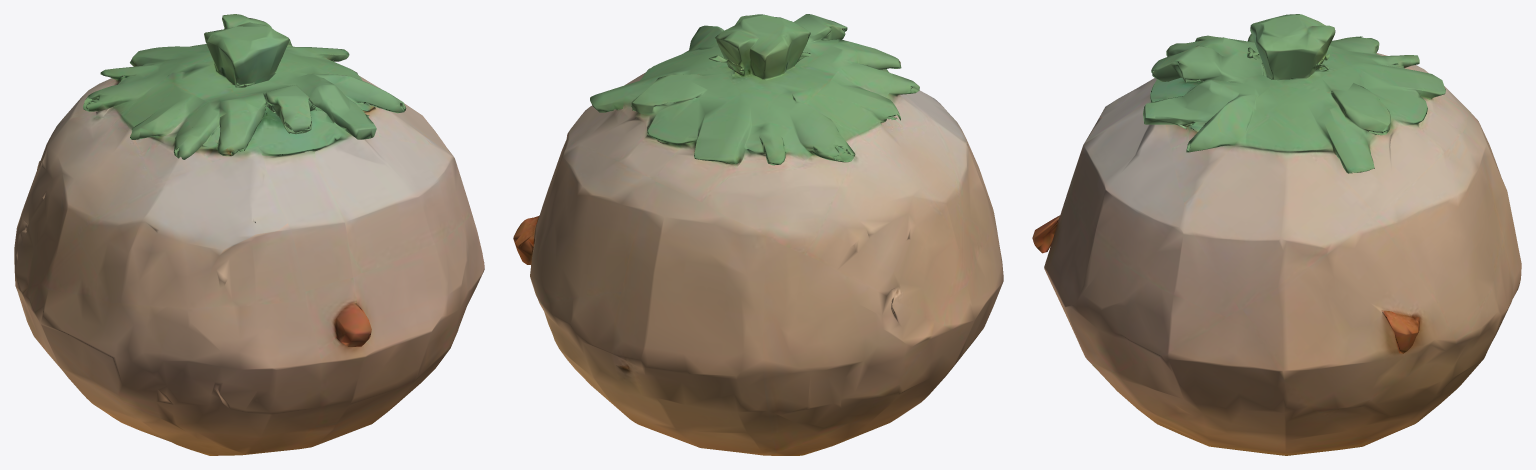
The model's file is haystack.glb.
3 renders of one model, left to right at view 1: azimuth 30°, elevation 25°; view 2: azimuth 150°, elevation 25°; view 3: azimuth 270°, elevation 25°, orthographic.
Visible parts, largest first — view 1: tripo_node_f9f4708c-a9fd-4caf-b570-fe8c866fc2a2; view 2: tripo_node_f9f4708c-a9fd-4caf-b570-fe8c866fc2a2; view 3: tripo_node_f9f4708c-a9fd-4caf-b570-fe8c866fc2a2.
Part boxes in pixels (box(x1,y1,x2,y2)): tripo_node_f9f4708c-a9fd-4caf-b570-fe8c866fc2a2: box(14, 14, 484, 455); tripo_node_f9f4708c-a9fd-4caf-b570-fe8c866fc2a2: box(513, 14, 1003, 455); tripo_node_f9f4708c-a9fd-4caf-b570-fe8c866fc2a2: box(1032, 14, 1521, 455).
Bounding box in the file's own units: 1.08 × 1 × 1.1.
Materials: 1 (1 with a texture image).
